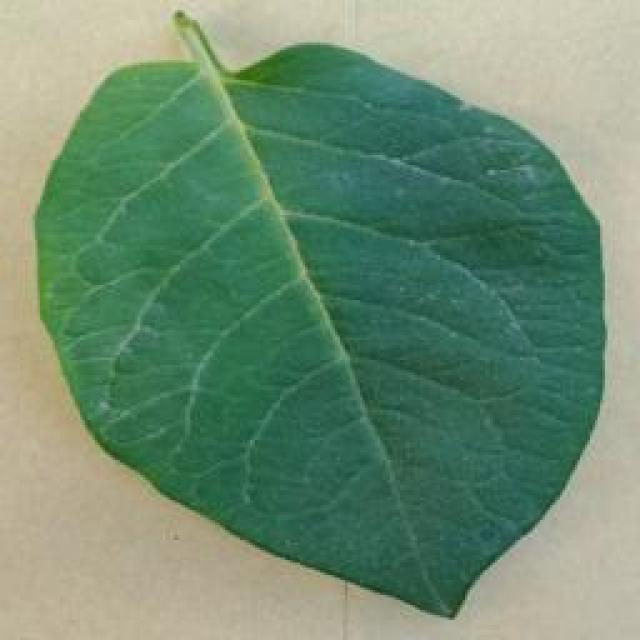Potato_Healthy: (32, 15, 598, 617)
